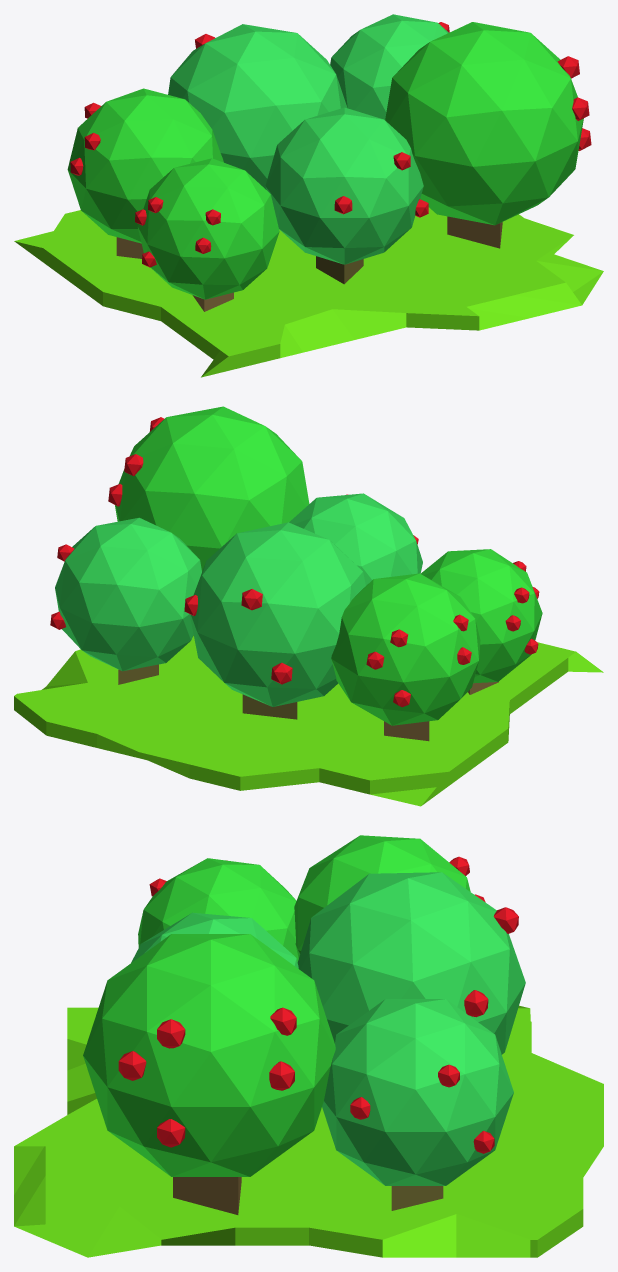
Rendered from green_b_n.glb.
The picture shows the model from 3 angles, top to bottom: view 1: azimuth 30°, elevation 25°; view 2: azimuth 150°, elevation 25°; view 3: azimuth 270°, elevation 25°; orthographic projection. The views are drawn at different scales.
Visible parts, largest first — view 1: Cube; view 2: Cube; view 3: Cube.
Part boxes in pixels (bbox=[...]): Cube: bbox=[14, 14, 603, 377]; Cube: bbox=[14, 406, 603, 806]; Cube: bbox=[14, 835, 603, 1257].
Bounding box in the file's own units: 6.29 × 3.17 × 6.
